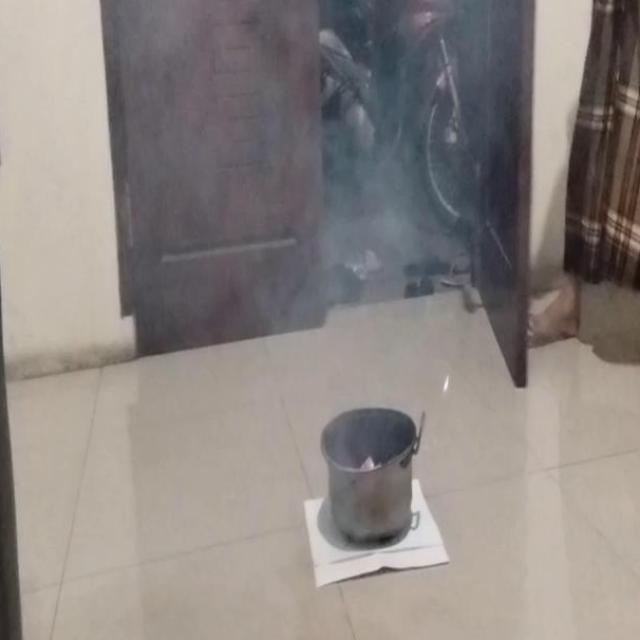fire: (88, 0, 504, 315)
